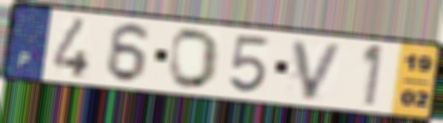1: (360, 42, 387, 111)
4: (50, 16, 91, 80)
5: (227, 32, 271, 95)
6: (105, 21, 153, 85)
O: (167, 27, 222, 91)
V: (289, 38, 347, 103)
